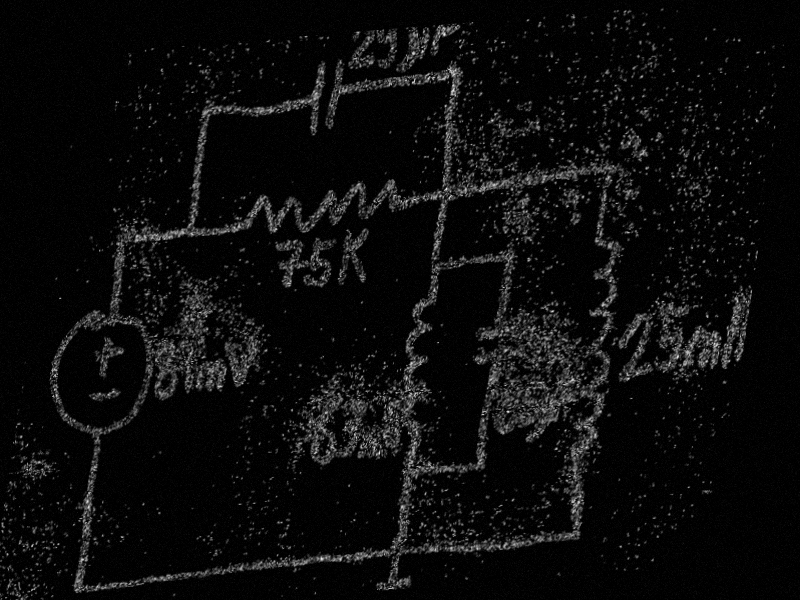2: (610, 307, 664, 388), (342, 30, 381, 75)
3: (334, 399, 370, 462)
5: (647, 300, 692, 378), (302, 235, 339, 294), (516, 380, 545, 429)
6: (305, 389, 347, 469)
7: (262, 234, 312, 299)
8: (147, 339, 185, 409), (490, 374, 527, 437)
9: (370, 28, 406, 72)
F: (548, 377, 577, 426), (427, 23, 462, 58)
H: (718, 291, 752, 369), (377, 416, 404, 460)
V: (225, 336, 264, 389)
k: (331, 222, 378, 292)
m: (677, 323, 727, 378), (180, 355, 231, 396), (355, 433, 385, 460)
u: (399, 25, 434, 73), (532, 395, 556, 441)
